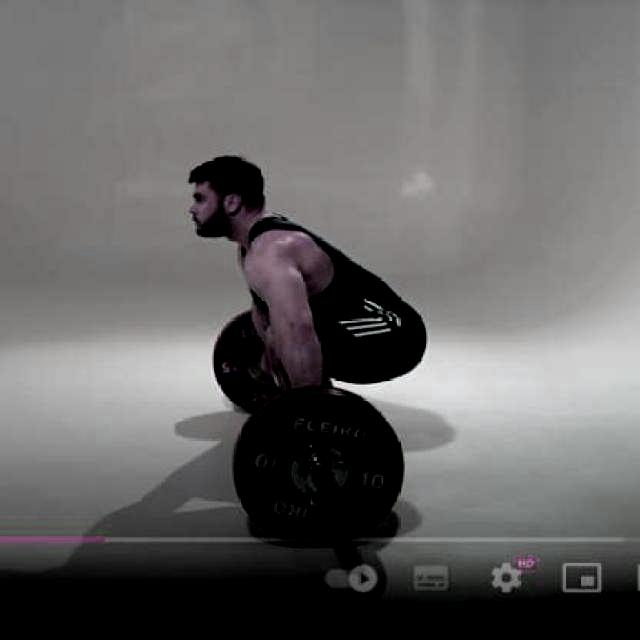barbell: (212, 377, 415, 554)
